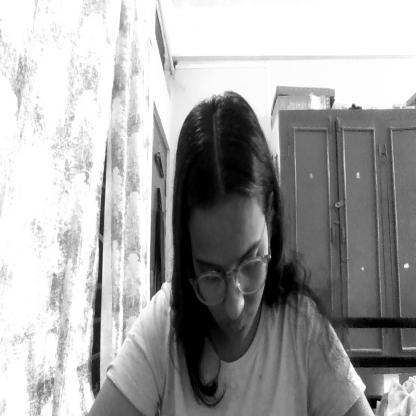Distracted: (167, 109, 275, 346)
